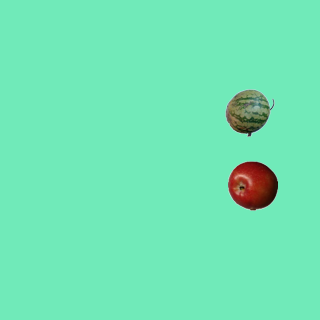Apple Braeburn: (227, 160, 277, 210)
Watermelon: (224, 87, 274, 137)
